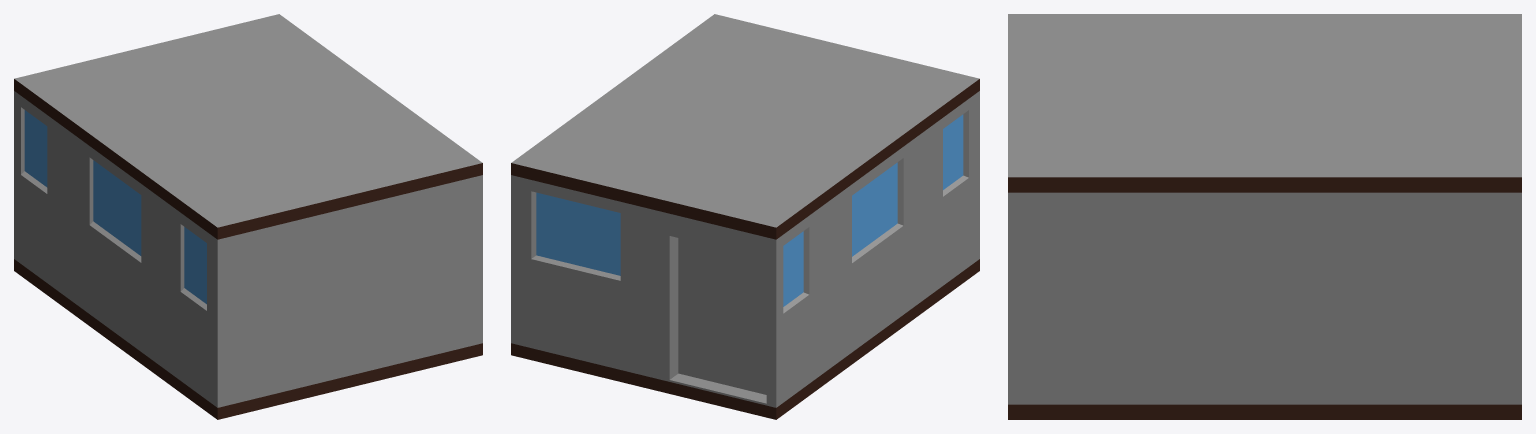
3 renders of one model, left to right at view 1: azimuth 30°, elevation 25°; view 2: azimuth 150°, elevation 25°; view 3: azimuth 270°, elevation 25°, orthographic. The views are drawn at different scales.
Visible parts, largest first — view 1: Box027; view 2: Box027; view 3: Box027.
Boxes of the visible parts, x1,y1,x2,y2 form: Box027: [14, 14, 482, 419]; Box027: [511, 14, 979, 419]; Box027: [1008, 14, 1521, 419].
Bounding box in the file's own units: 173 × 120 × 229.
